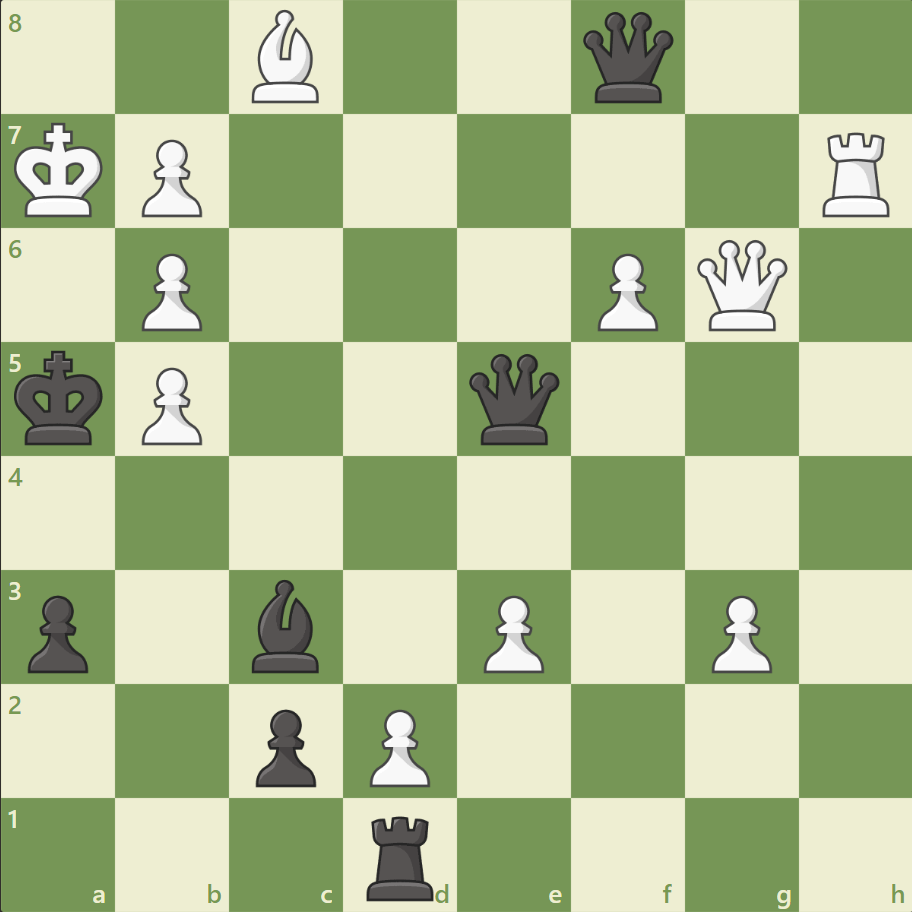B: (244, 6, 328, 109)
K: (11, 117, 111, 225)
P: (133, 132, 208, 223), (133, 246, 208, 337), (133, 359, 208, 450), (474, 586, 549, 677), (701, 586, 776, 677), (588, 246, 662, 337), (361, 700, 435, 791)
Q: (691, 236, 790, 335)
R: (814, 125, 897, 222)
b: (244, 574, 328, 676)
k: (11, 344, 111, 452)
p: (20, 586, 95, 677), (247, 700, 322, 791)
q: (464, 349, 563, 449), (578, 9, 677, 108)
r: (360, 806, 442, 904)
